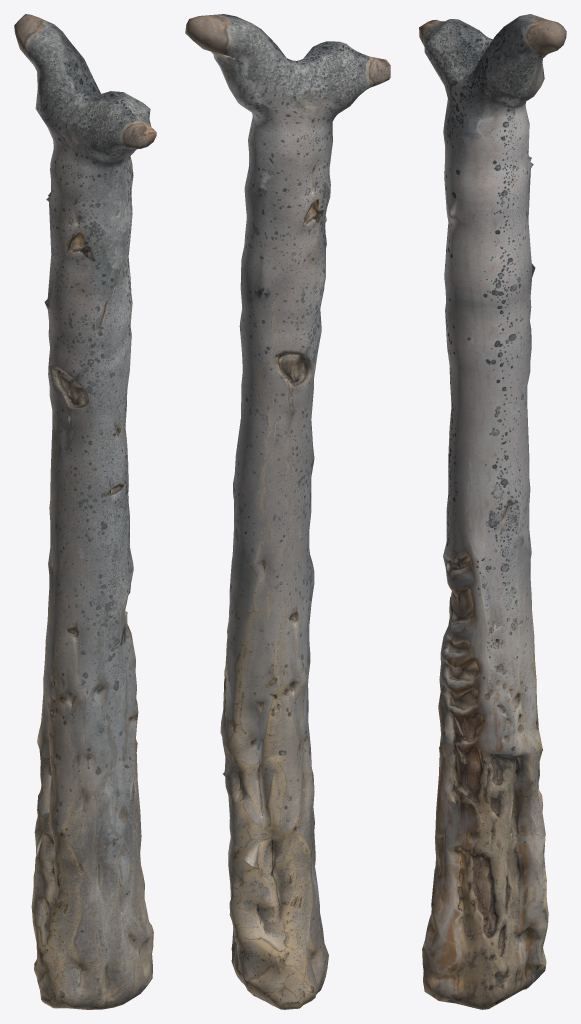
Rendered from tree_dead.glb.
The picture shows the model from 3 angles, left to right: view 1: azimuth 90°, elevation 25°; view 2: azimuth 150°, elevation 25°; view 3: azimuth 270°, elevation 25°; orthographic projection. The views are drawn at different scales.
Parts seen in each view (by area): view 1: tree_dead; view 2: tree_dead; view 3: tree_dead.
Part boxes in pixels (left/top/right/bottom): tree_dead: left=14, top=14, right=156, bottom=1009; tree_dead: left=185, top=14, right=390, bottom=1009; tree_dead: left=419, top=14, right=566, bottom=1009.
Bounding box in the file's own units: 0.3071 × 1.99 × 0.2679.
1 material, 1 textured.
